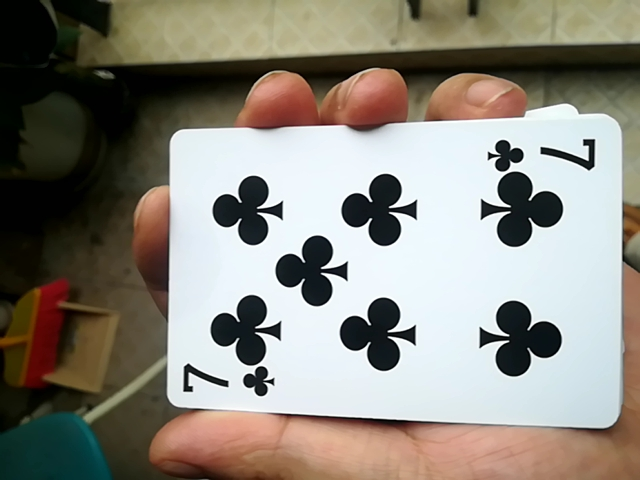mh 7: (149, 112, 619, 430)
